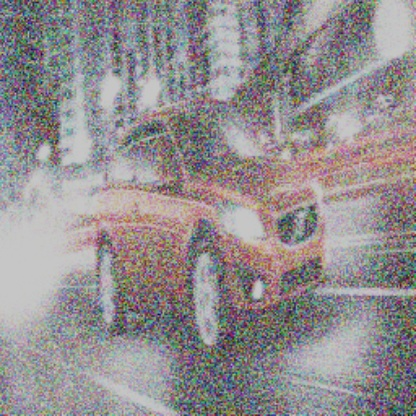Vehicle: (94, 99, 330, 365)
